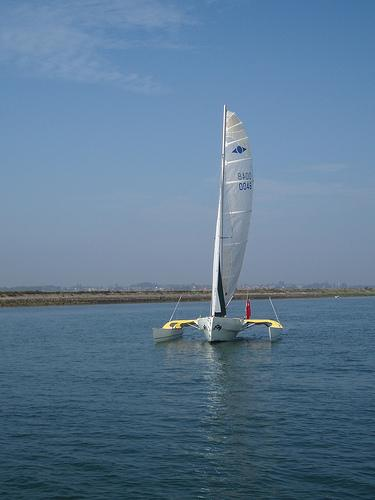Ship: (153, 103, 284, 344)
